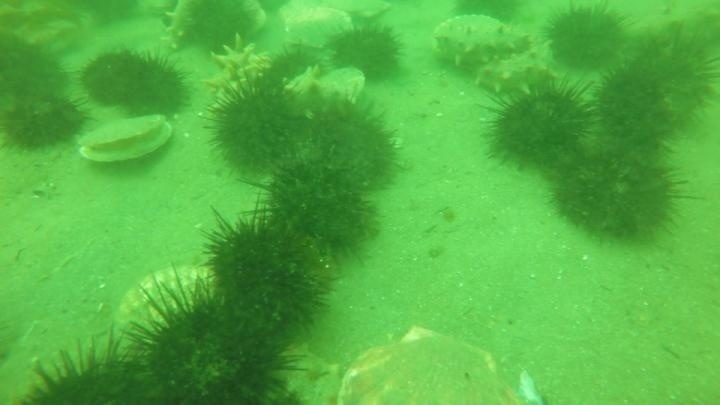echinus: (116, 267, 307, 405), (195, 206, 337, 346), (587, 26, 719, 159), (544, 142, 692, 250), (255, 151, 384, 266), (275, 92, 405, 198), (480, 76, 602, 175), (14, 328, 162, 405), (204, 74, 309, 181), (597, 64, 685, 160), (542, 2, 632, 75), (107, 49, 192, 121), (1, 88, 90, 154), (164, 1, 265, 59), (326, 21, 406, 85), (78, 47, 154, 113), (1, 34, 70, 104), (260, 41, 333, 100), (452, 1, 524, 28)
holothurian: (617, 1, 720, 53), (471, 47, 561, 100), (201, 36, 275, 99), (432, 27, 533, 73), (1, 2, 83, 56), (270, 60, 330, 112)
scallop: (332, 324, 536, 405), (110, 260, 225, 355), (75, 113, 176, 168), (425, 10, 509, 66), (276, 1, 356, 53), (316, 60, 368, 107), (325, 1, 394, 28)
